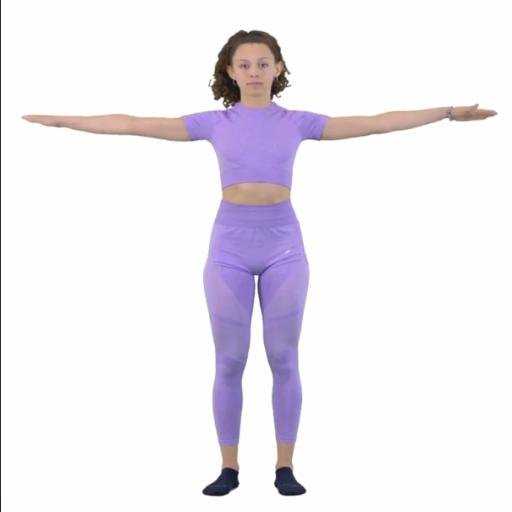Normal_BrenchPress: (20, 29, 499, 500)
